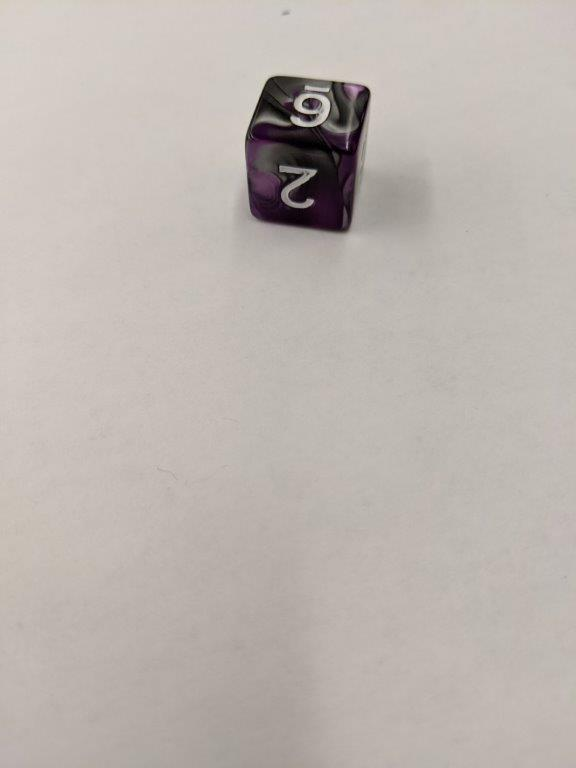d6-6: (244, 74, 368, 233)
